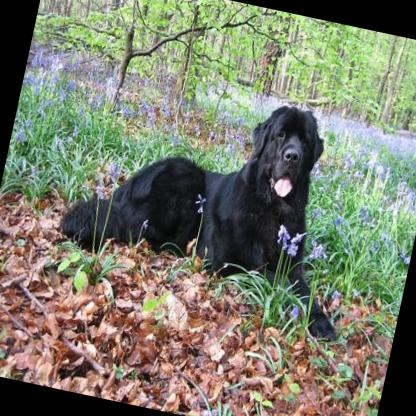Newfoundland: (42, 55, 385, 346)
